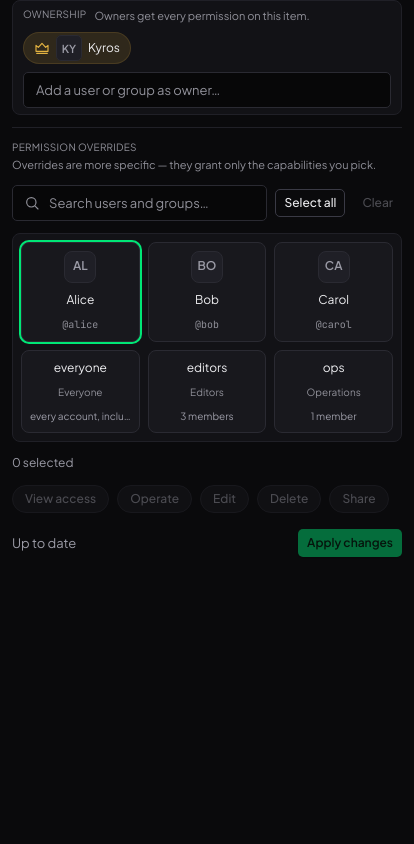
Scenario: ResourceAccessFields — groups › raises the everyone warning only once the group is added as an owner
In the dropdown named "Add an owner": (207, 90) left=23, top=72, right=391, bottom=108, type "everyone"
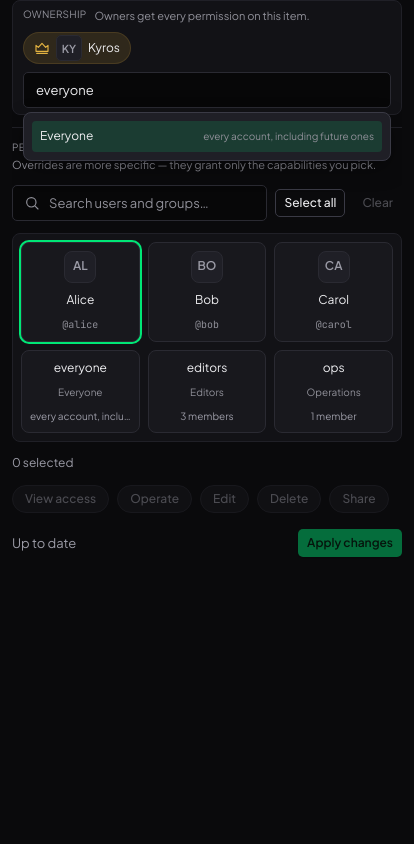
Click the option "Everyone every account, including future ones": (207, 136) left=32, top=121, right=382, bottom=152
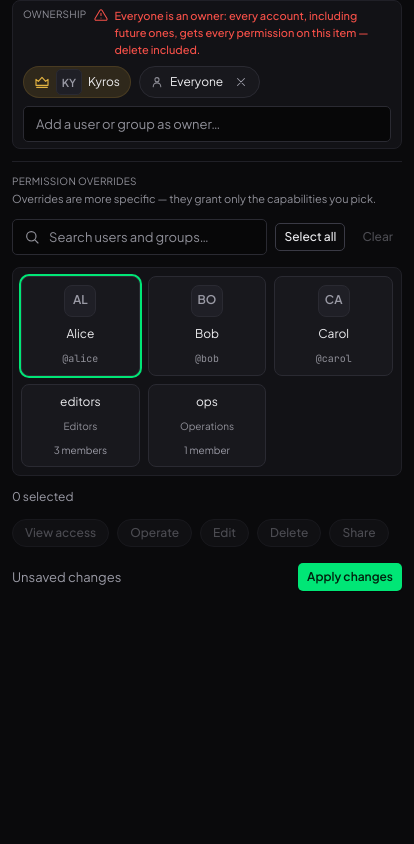
Result: the message shows "every account, including future ones" at left=114, top=9, right=368, bottom=56
